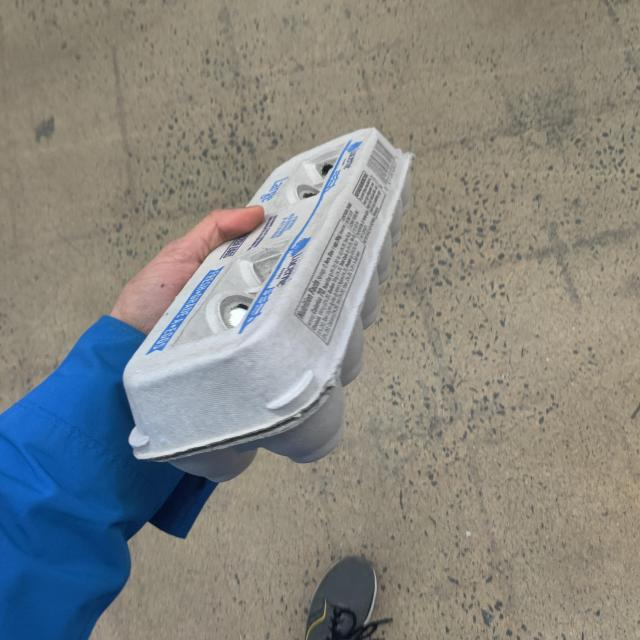Eggs: (140, 120, 439, 479)
